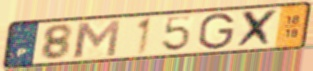1: (135, 15, 157, 56)
5: (159, 14, 194, 53)
8: (40, 22, 75, 61)
G: (197, 12, 237, 51)
M: (72, 18, 123, 60)
X: (233, 7, 281, 50)
